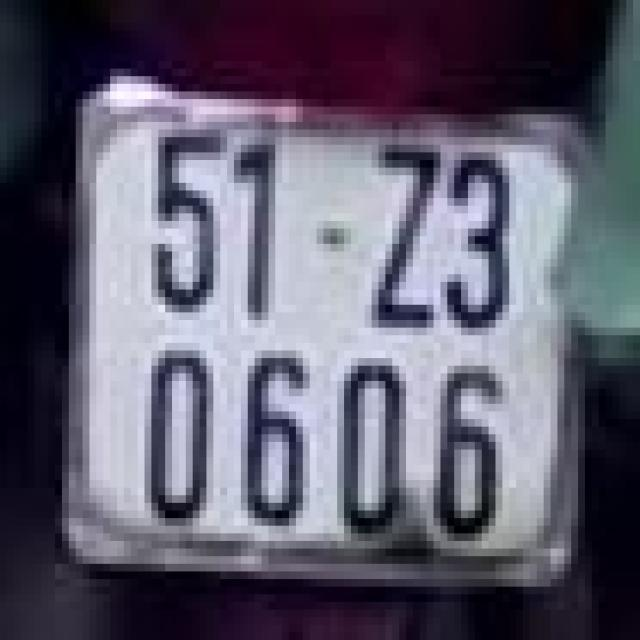0: (138, 343, 227, 526), (334, 354, 416, 537)
1: (227, 133, 289, 324)
3: (447, 145, 516, 335)
5: (145, 130, 227, 320)
6: (434, 350, 509, 541), (241, 343, 316, 533)
Z: (365, 137, 447, 328)
